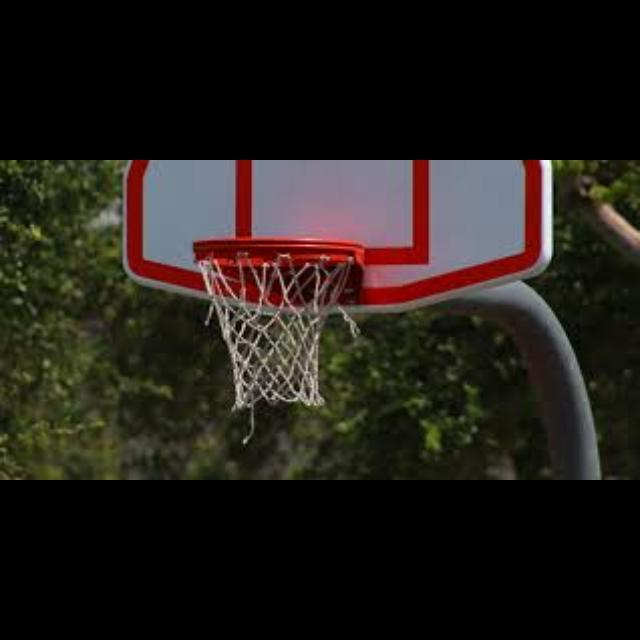rim: (193, 237, 359, 408)
